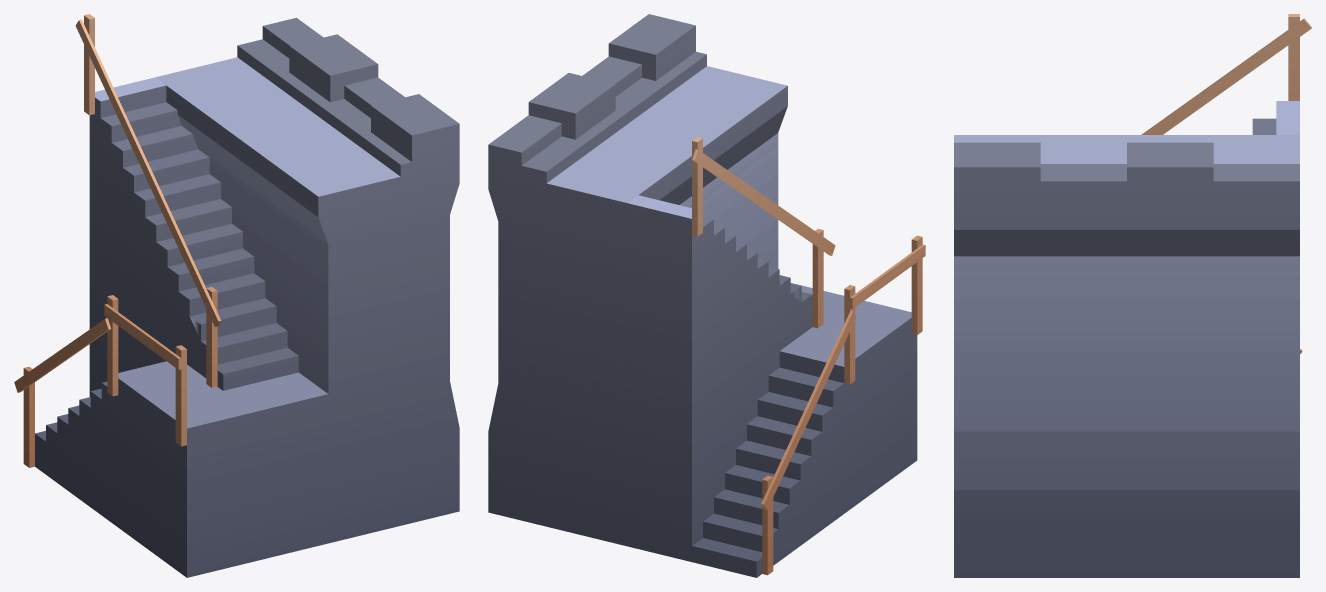
The model's file is wall-narrow-stairs-rail.fbx.
The picture shows the model from 3 angles, left to right: view 1: azimuth 30°, elevation 25°; view 2: azimuth 150°, elevation 25°; view 3: azimuth 270°, elevation 25°; orthographic projection. The views are drawn at different scales.
Parts seen in each view (by area): view 1: wall-narrow-stairs-rail; view 2: wall-narrow-stairs-rail; view 3: wall-narrow-stairs-rail.
Boxes of the visible parts, box(x1,y1,x2,y2) form: wall-narrow-stairs-rail: box(14, 14, 459, 577); wall-narrow-stairs-rail: box(488, 14, 925, 577); wall-narrow-stairs-rail: box(954, 14, 1311, 577).
Bounding box in the file's own units: 0.995 × 1.03 × 1.45.
